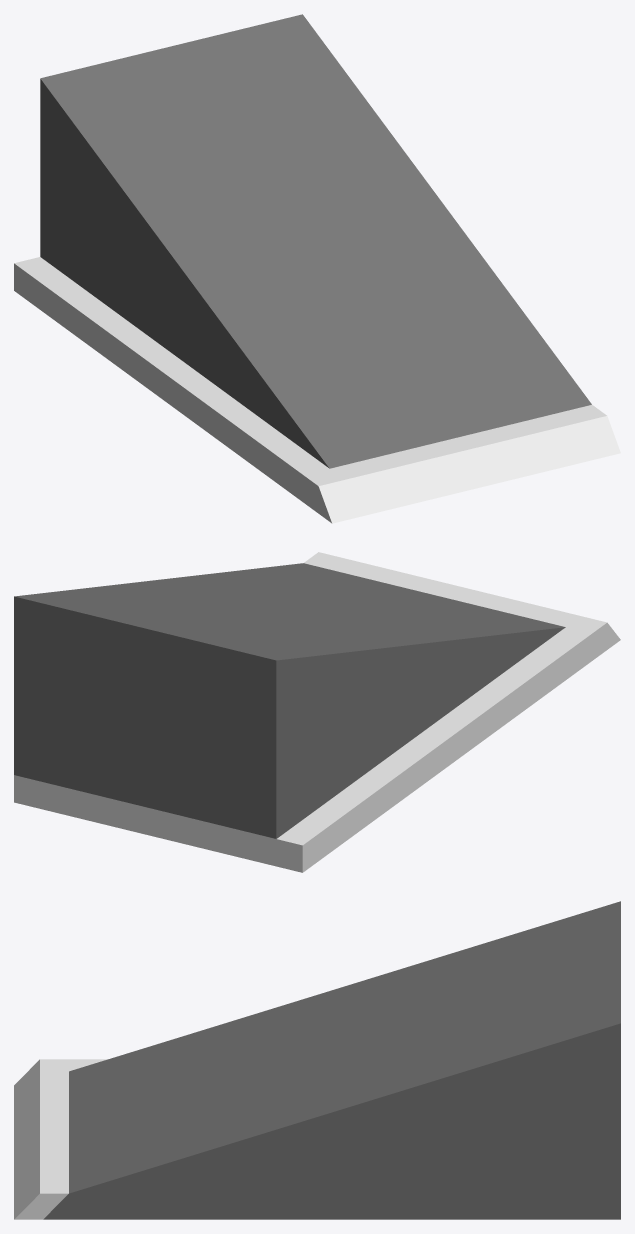
The model's file is RoofShedSmallRight.fbx.
3 views of the same model, one above another, from view 1: azimuth 30°, elevation 25°; view 2: azimuth 150°, elevation 25°; view 3: azimuth 270°, elevation 25° (orthographic). The views are drawn at different scales.
Visible parts, largest first — view 1: RoofShedSmallRight; view 2: RoofShedSmallRight; view 3: RoofShedSmallRight.
Boxes of the visible parts, left/top/right/bottom form: RoofShedSmallRight: left=14, top=14, right=620, bottom=523; RoofShedSmallRight: left=14, top=552, right=620, bottom=872; RoofShedSmallRight: left=14, top=901, right=620, bottom=1219.
Bounding box in the file's own units: 110 × 75 × 210.
